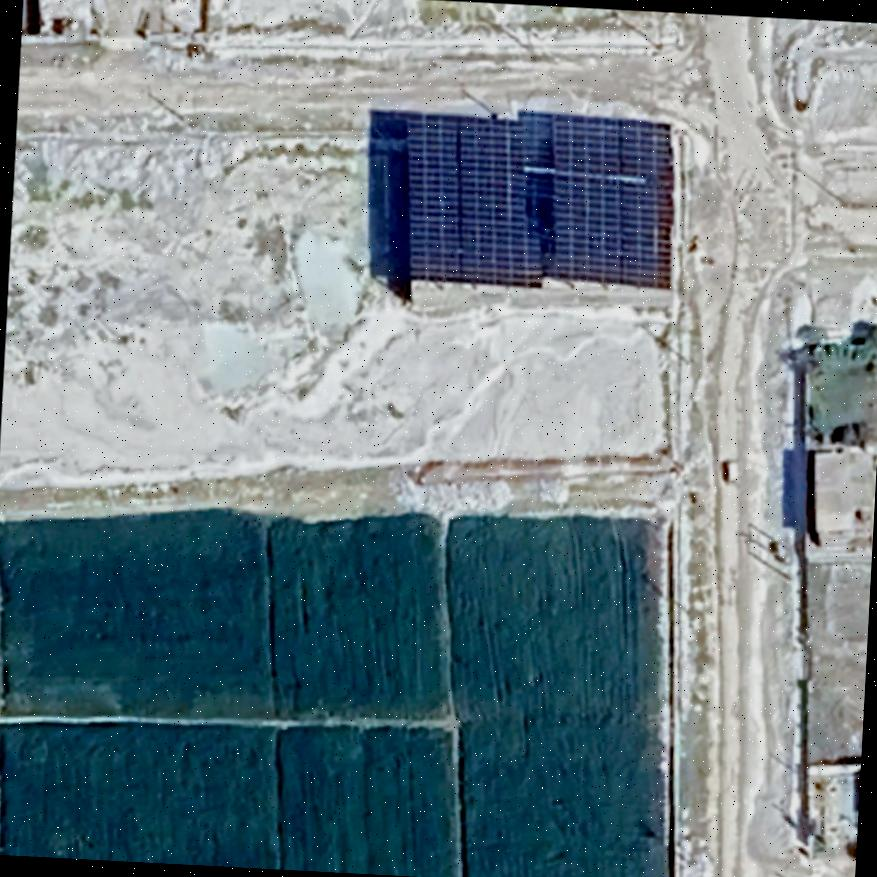Solarpanel: (389, 97, 688, 304)
